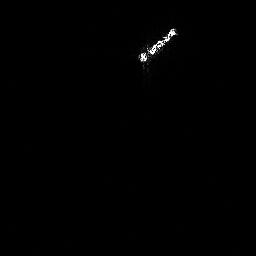ship: (134, 24, 180, 67)
